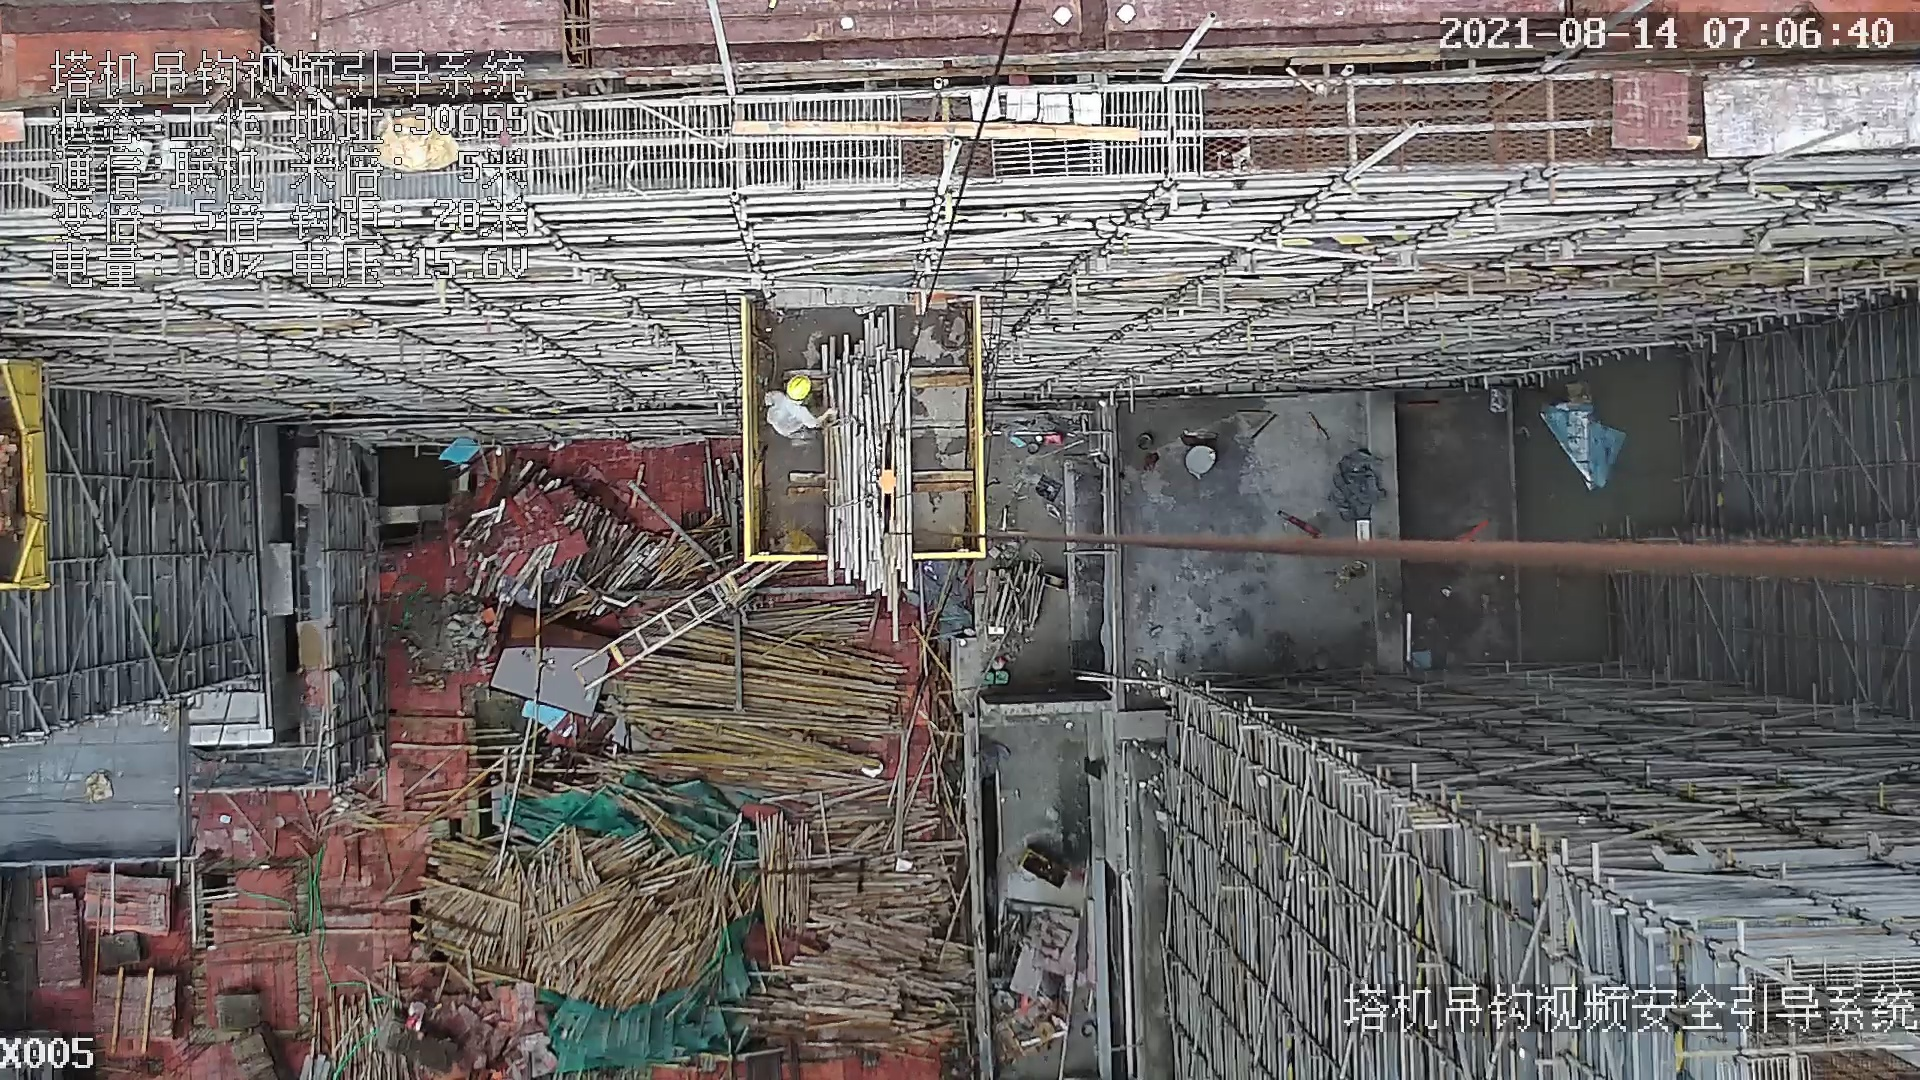helmet: (784, 375, 812, 401)
hook: (869, 422, 904, 539)
person: (770, 382, 831, 436)
